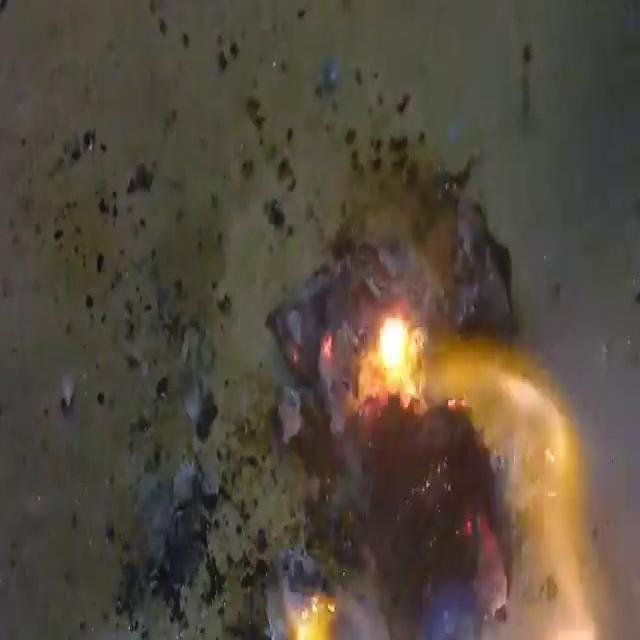Fire: (205, 103, 619, 640)
